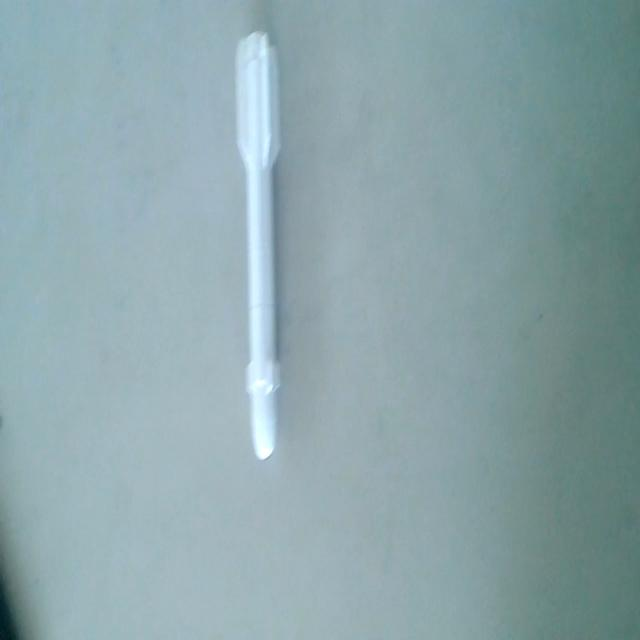Rocket: (236, 27, 284, 465)
